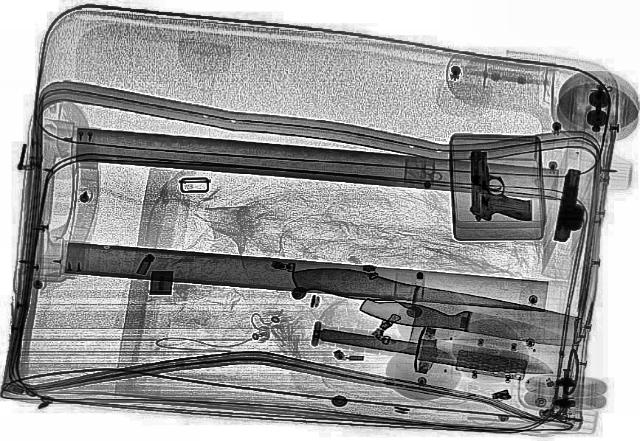Gun: (463, 148, 532, 222), (550, 168, 594, 242)
Knife: (264, 258, 596, 382), (354, 292, 582, 354), (312, 322, 556, 378)
